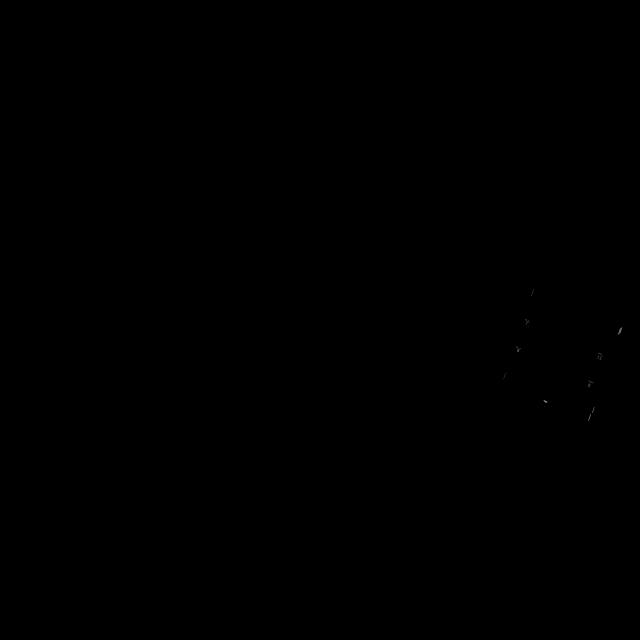satellite: (492, 269, 631, 428)
